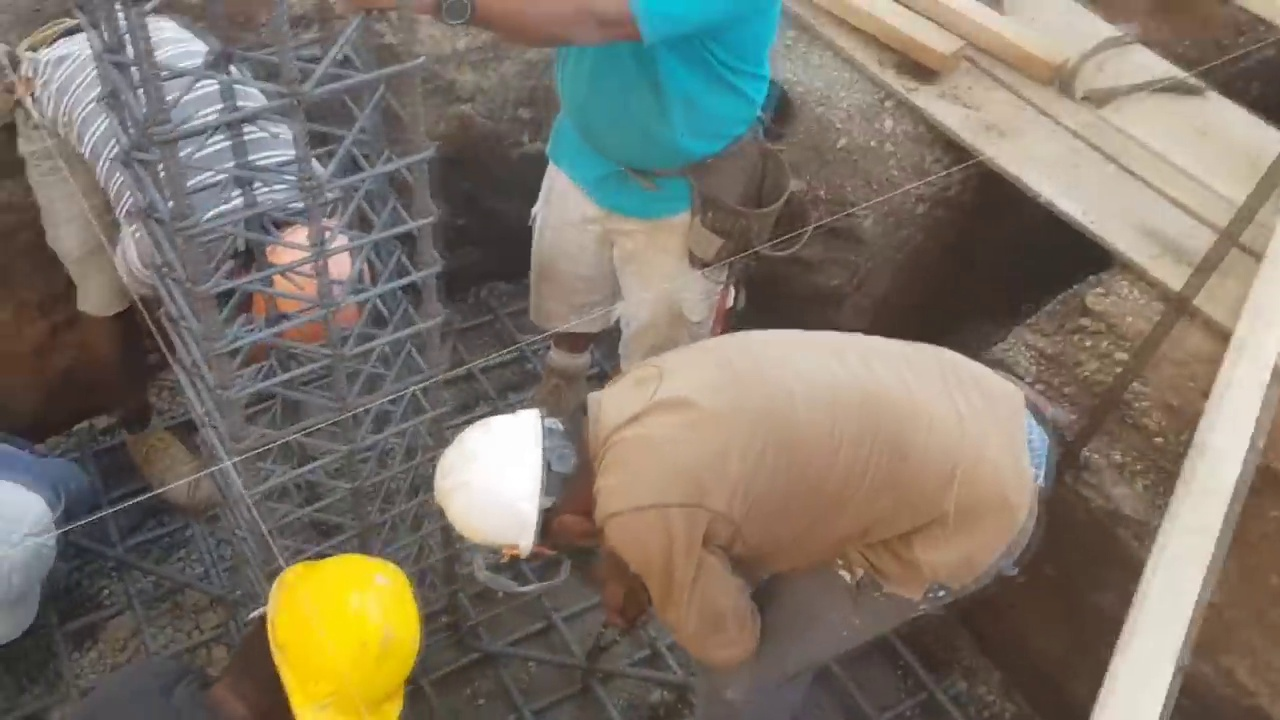helmet: (257, 558, 422, 701), (437, 395, 558, 560), (259, 220, 358, 344)
helmet-on: (190, 548, 427, 714), (435, 380, 612, 567), (222, 198, 364, 348)
person: (432, 322, 1051, 720), (0, 0, 361, 508), (358, 6, 786, 378), (56, 546, 429, 718), (0, 444, 96, 678)
